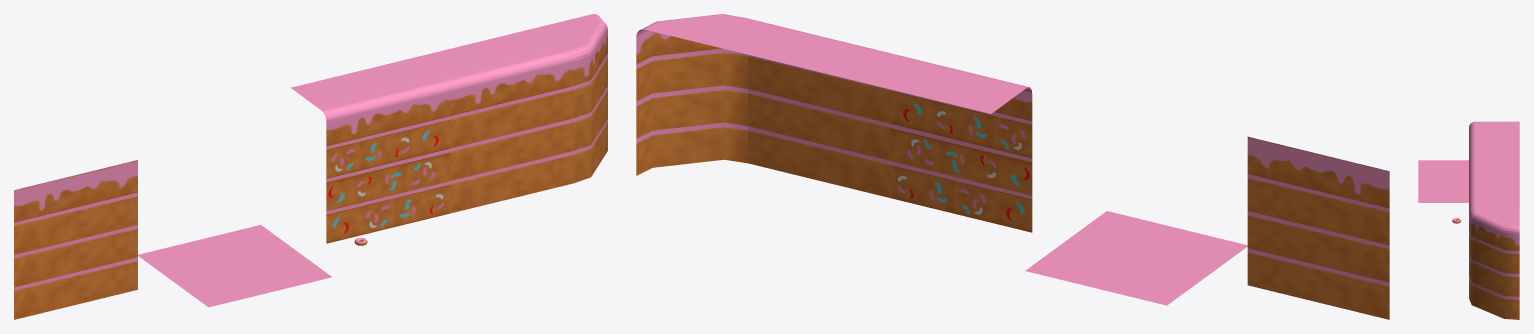
File: GMTK2025_ENV_Modular 1.fbx
3 views of the same model, side by side, from view 1: azimuth 30°, elevation 25°; view 2: azimuth 150°, elevation 25°; view 3: azimuth 270°, elevation 25° (orthographic). The views are drawn at different scales.
Parts seen in each view (by area): view 1: Cake_Wall_withTop2, Cake_Wall_withTop, Cake_Wall, Floor, Cake_Wall_Corner; view 2: Cake_Wall_withTop2, Cake_Wall, Cake_Wall_withTop, Cake_Wall_Corner, Floor; view 3: Cake_Wall_Corner, Cake_Wall_withTop2, Cake_Wall_withTop, Floor.
Boxes of the visible parts, <box> form: Cake_Wall_withTop2: <box>290,57,450,243</box>; Cake_Wall_withTop: <box>414,27,573,213</box>; Cake_Wall: <box>14,160,137,319</box>; Floor: <box>138,225,331,307</box>; Cake_Wall_Corner: <box>539,14,607,183</box>; Cake_Wall_withTop2: <box>849,52,1032,232</box>; Cake_Wall: <box>1247,136,1389,319</box>; Cake_Wall_withTop: <box>707,18,890,197</box>; Cake_Wall_Corner: <box>636,14,748,175</box>; Floor: <box>1025,211,1247,305</box>; Cake_Wall_Corner: <box>1469,207,1519,319</box>; Cake_Wall_withTop2: <box>1469,121,1519,168</box>; Cake_Wall_withTop: <box>1469,164,1519,211</box>; Floor: <box>1418,160,1468,202</box>.
Size of the model in its own units: 5.02 by 1 by 1.
